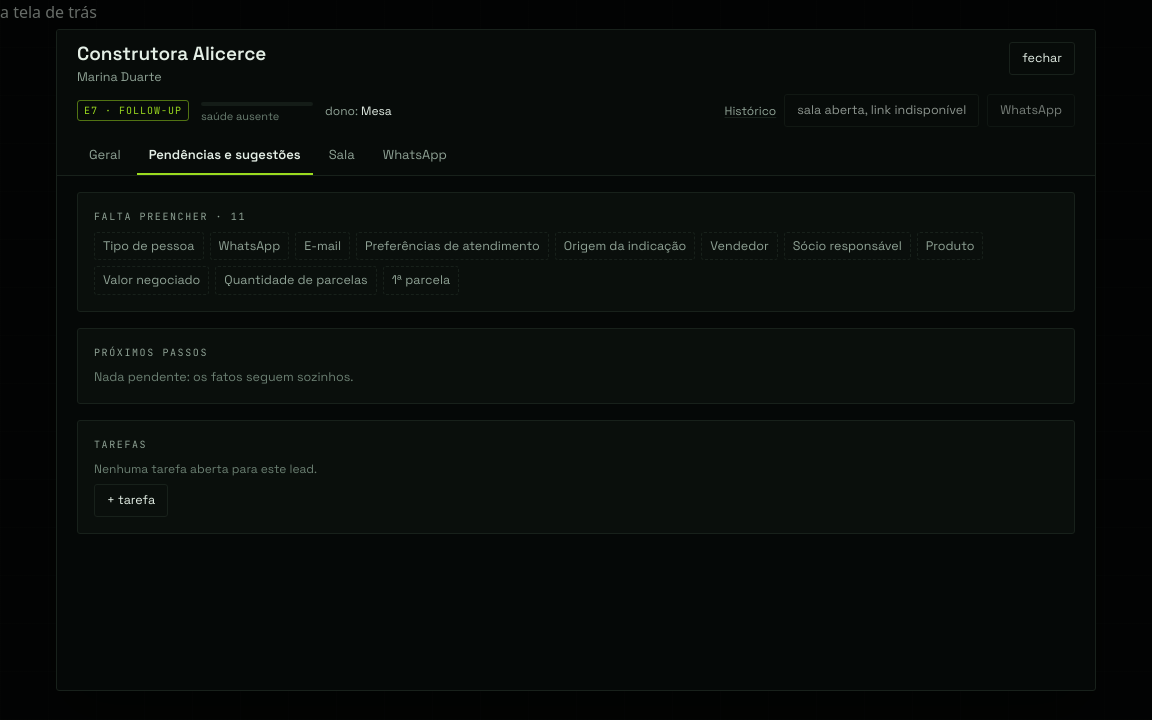
Test case: a aba Pendências e sugestões › um clique em "falta preencher" vai à Geral com o campo aberto
Click the button with test id "pendencia-campo-tipoDePessoa" at (149, 246), box x1=94 y1=232 x2=204 y2=260
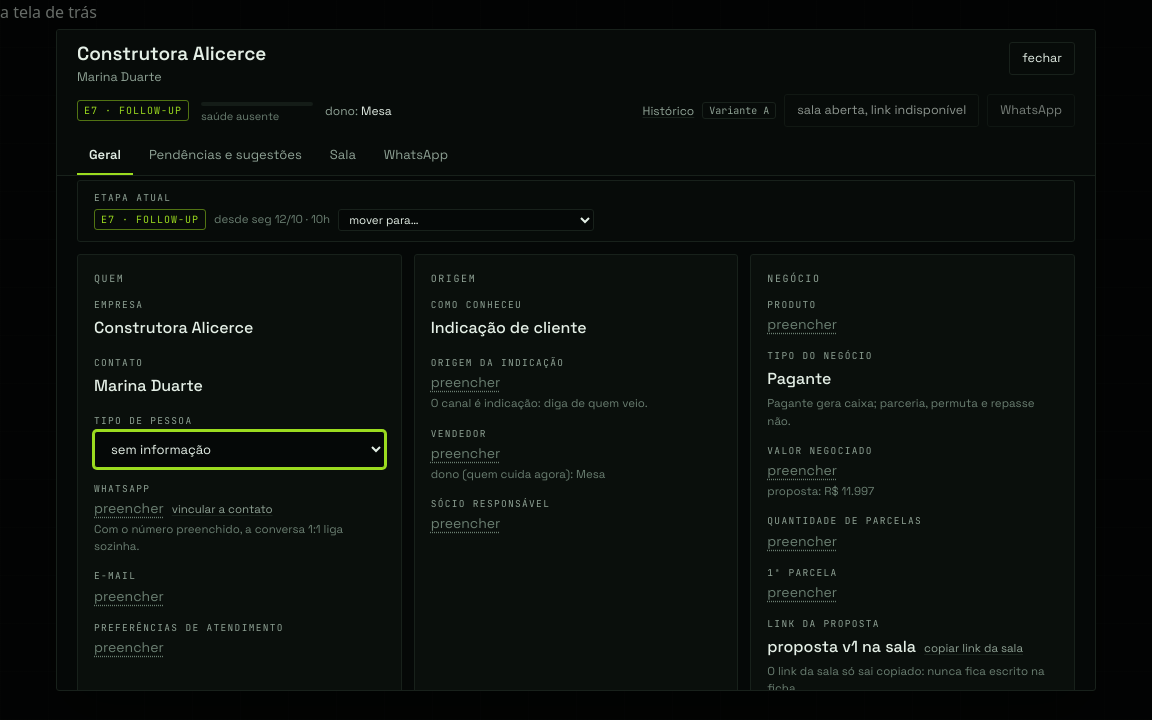
Check: the dropdown with test id "ficha-editor-tipoDePessoa" is shown, box x1=94 y1=430 x2=385 y2=468
